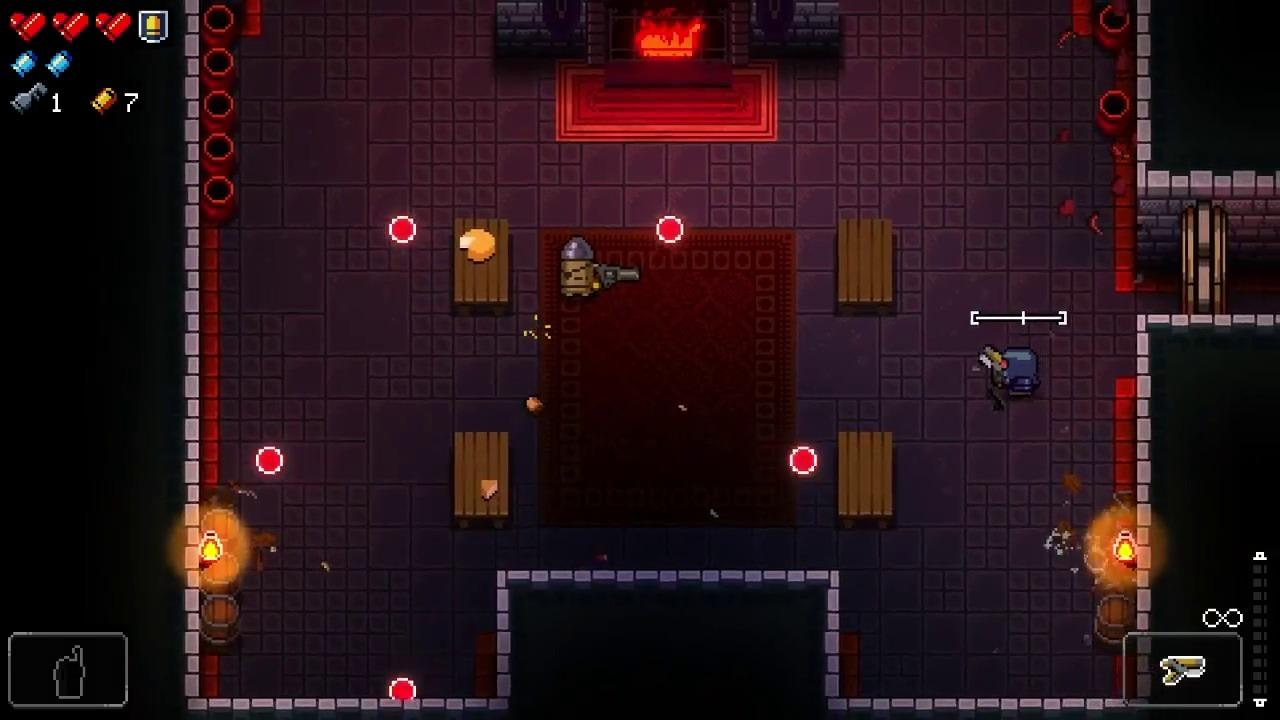hollow_bullet: (255, 446, 285, 476), (789, 444, 816, 476), (656, 216, 685, 245), (389, 214, 417, 244), (389, 677, 419, 702)
locked_door: (1180, 199, 1227, 316)
player: (1000, 349, 1041, 399)
table: (836, 429, 891, 530), (455, 430, 508, 530), (454, 218, 509, 314), (837, 218, 891, 312)
veteran_bullet_kin: (560, 237, 595, 298)
